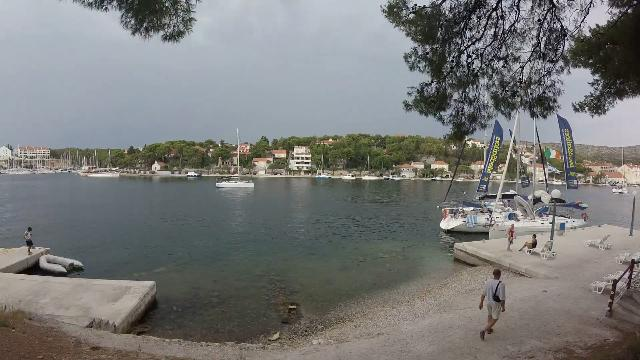Sailboat: (212, 175, 258, 191)
